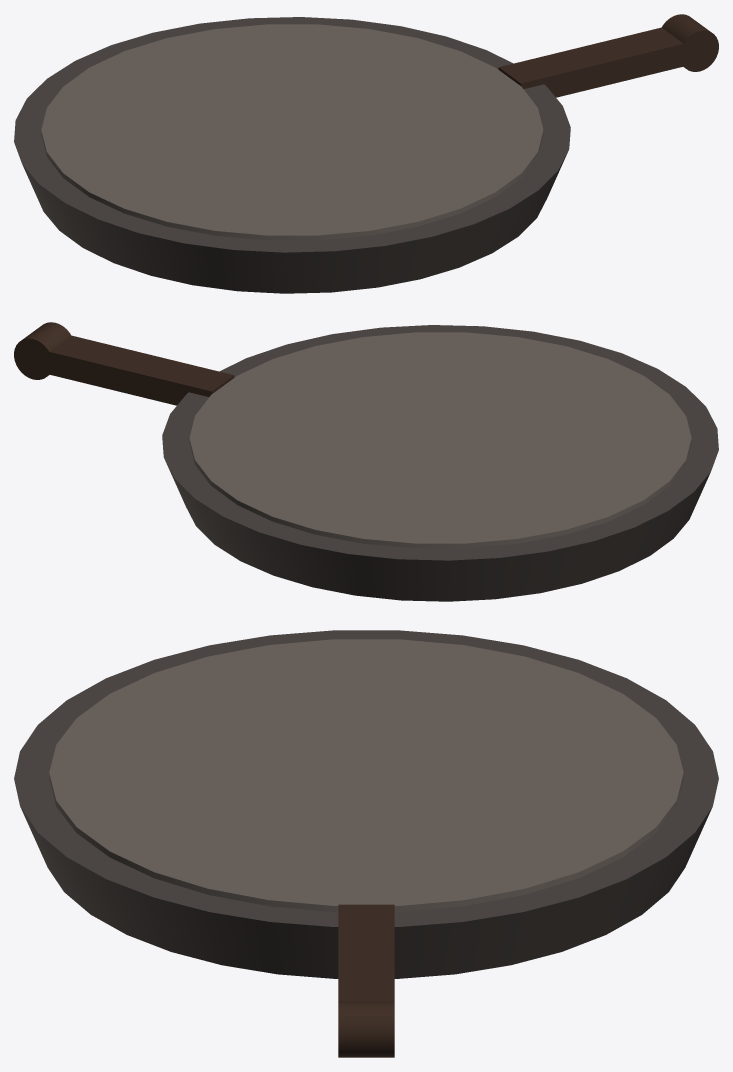
Rendered from home_tool_pan.glb.
3 views of the same model, one above another, from view 1: azimuth 30°, elevation 25°; view 2: azimuth 150°, elevation 25°; view 3: azimuth 270°, elevation 25° (orthographic). The views are drawn at different scales.
Bounding box in the file's own units: 1.36 × 0.13 × 1.
